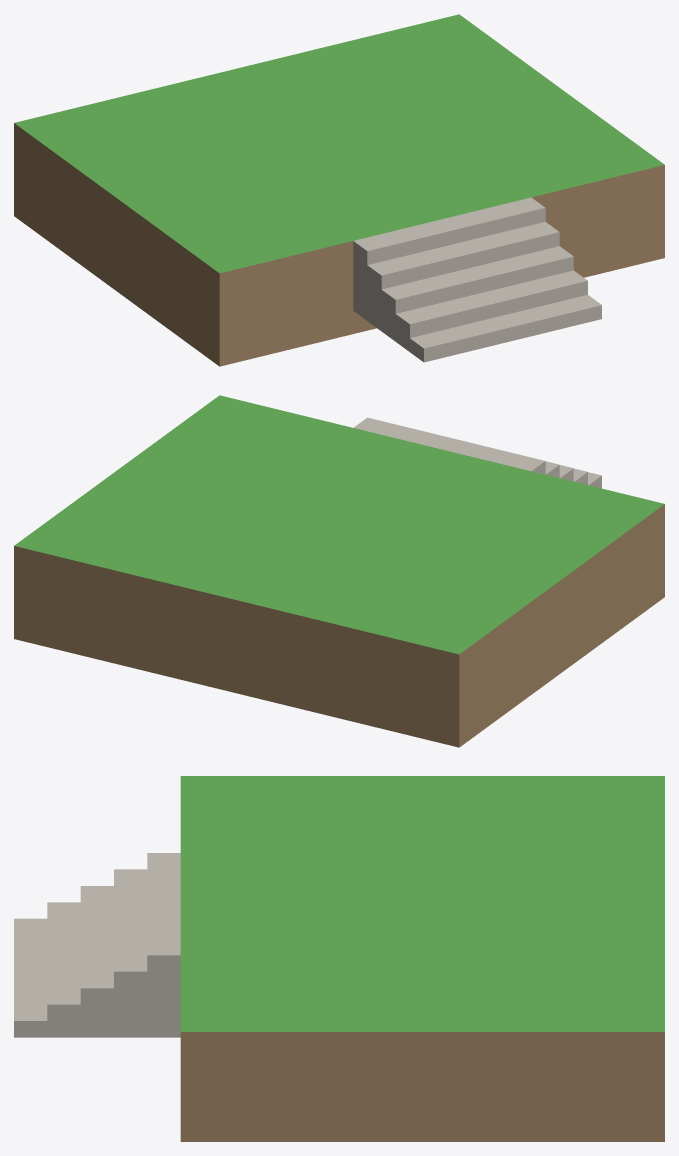
Rendered from terrain.fbx.
3 renders of one model, top to bottom at view 1: azimuth 30°, elevation 25°; view 2: azimuth 150°, elevation 25°; view 3: azimuth 270°, elevation 25°, orthographic. The views are drawn at different scales.
Parts seen in each view (by area): view 1: HighTerrain, Step_5, Step_4, Step_3, Step_2, Step_1; view 2: HighTerrain, Step_5; view 3: HighTerrain, Step_5, Step_4, Step_3, Step_2, Step_1.
Boxes of the visible parts, <box> form: HighTerrain: <box>14,14,664,366</box>; Step_5: <box>353,197,545,320</box>; Step_4: <box>367,222,559,331</box>; Step_3: <box>381,246,573,341</box>; Step_2: <box>395,270,587,351</box>; Step_1: <box>410,295,601,362</box>; HighTerrain: <box>14,395,664,747</box>; Step_5: <box>353,417,545,474</box>; HighTerrain: <box>180,776,664,1141</box>; Step_5: <box>147,853,180,1037</box>; Step_4: <box>114,869,147,1037</box>; Step_3: <box>80,886,113,1037</box>; Step_2: <box>47,902,80,1037</box>; Step_1: <box>14,918,47,1037</box>.
Size of the model in its own units: 1000 by 200 by 1075.
